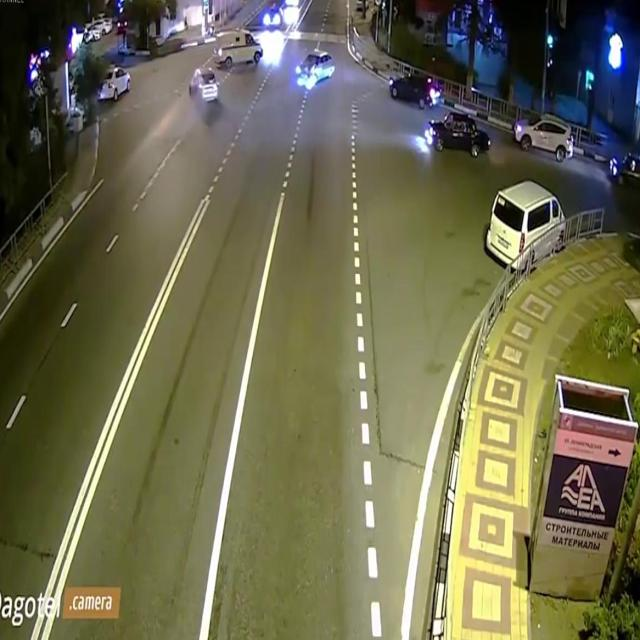accident: (288, 40, 340, 108), (180, 57, 226, 115)
non_accident: (387, 58, 495, 162)
